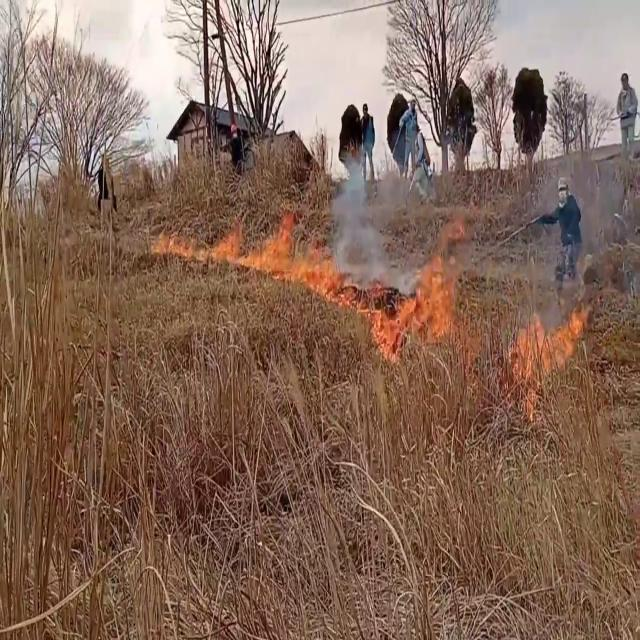Fire: (502, 284, 594, 411), (378, 234, 470, 358), (213, 214, 340, 302), (150, 230, 220, 269)
Smoke: (326, 151, 402, 290)
